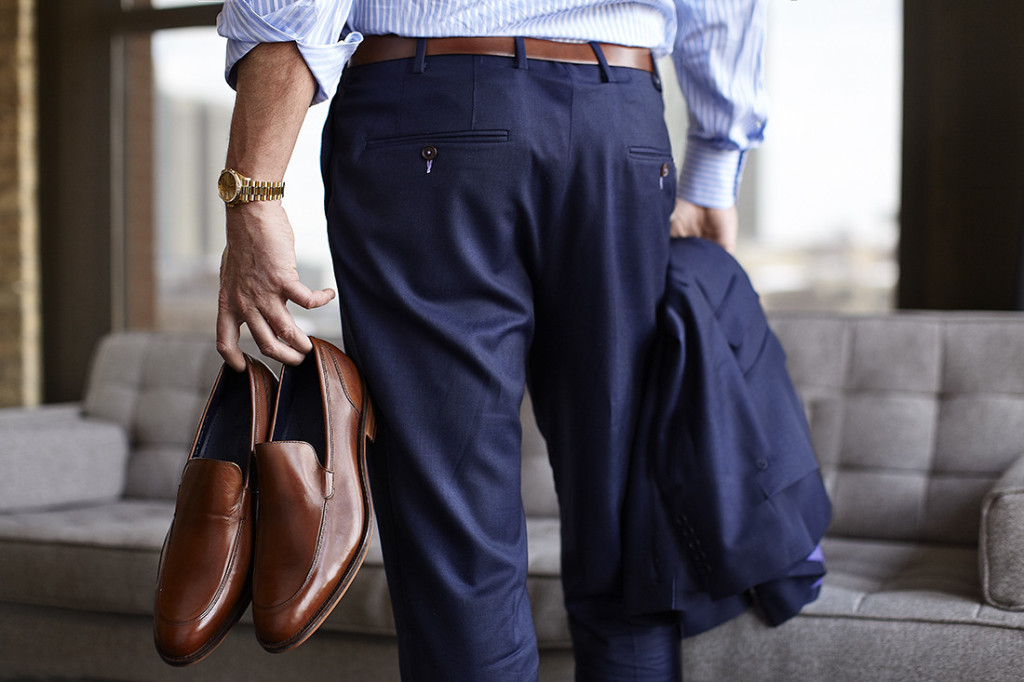F_belt: (330, 28, 673, 77)
F_dress pants: (332, 31, 701, 676)
